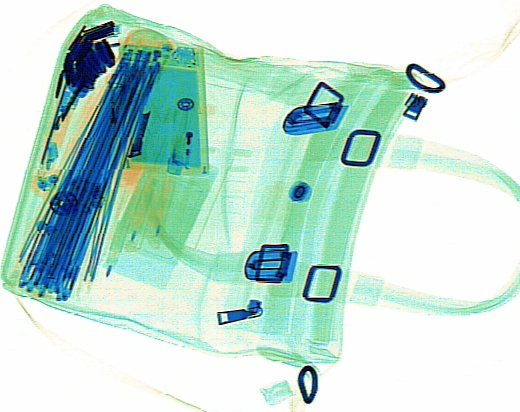lighter: (165, 92, 202, 177)
